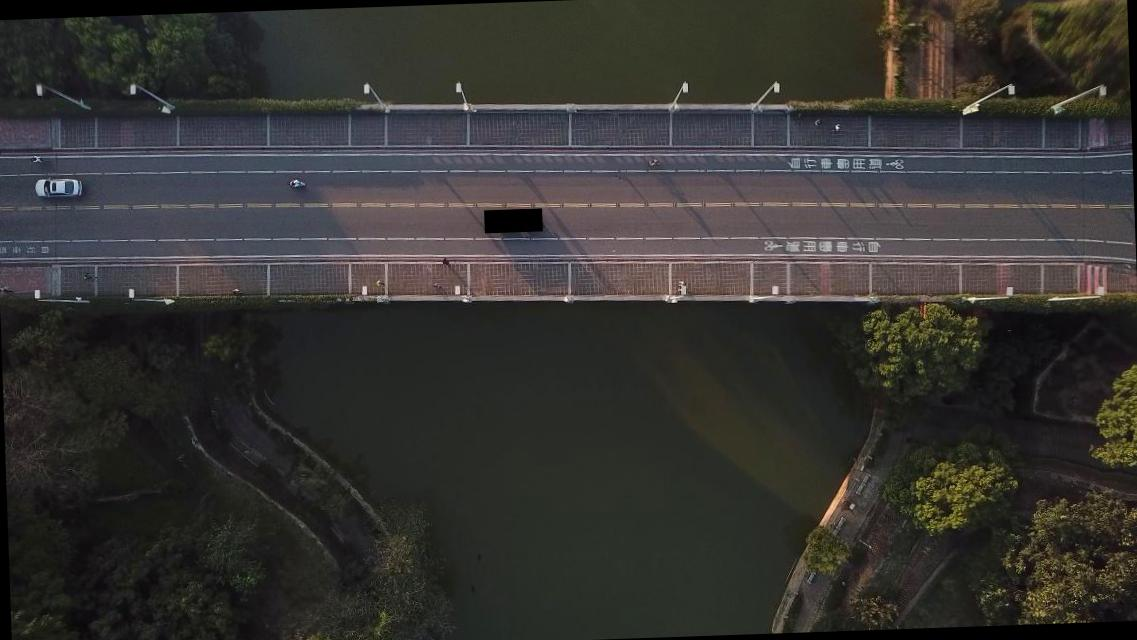vehicle: (34, 176, 82, 198)
